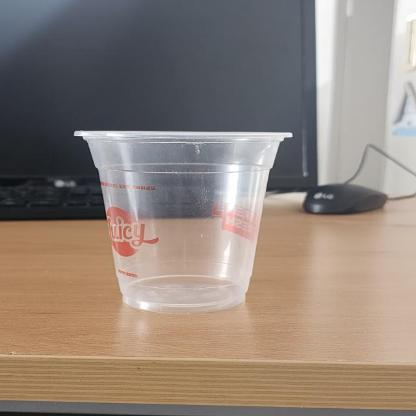Plastic Cup: (73, 128, 295, 310)
